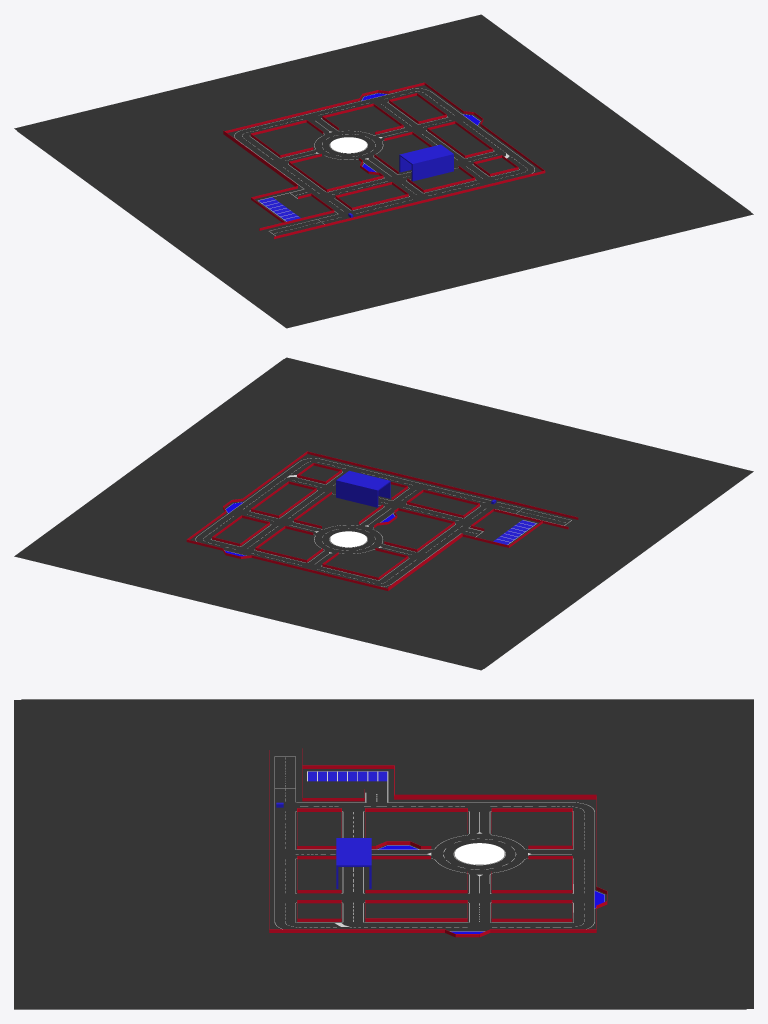
File: RoboTaksiPist2024.dae
3 renders of one model, top to bottom at view 1: azimuth 30°, elevation 25°; view 2: azimuth 150°, elevation 25°; view 3: azimuth 270°, elevation 25°, orthographic. The views are drawn at different scales.
Parts seen in each view (by area): view 1: Plane.025, Plane.056, Plane.008, Cube.066, Cube.055; view 2: Plane.025, Plane.056, Plane.008, Cube.066, Cube.055; view 3: Plane.025, Plane.056, Plane.008, Cube.003, Cube.066, Plane.026, Plane.016, Plane.015, Plane.010, Plane.031, Plane.039, Plane.002 (+8 smaller).
Boxes of the visible parts, <box> form: Plane.025: <box>14,14,750,325</box>; Plane.056: <box>17,131,753,328</box>; Plane.008: <box>300,125,395,165</box>; Cube.066: <box>399,144,453,181</box>; Cube.055: <box>274,170,544,239</box>; Plane.025: <box>14,359,750,670</box>; Plane.056: <box>285,357,753,668</box>; Plane.008: <box>302,519,396,559</box>; Cube.066: <box>336,470,390,507</box>; Cube.055: <box>307,451,578,519</box>; Plane.025: <box>21,699,753,1008</box>; Plane.056: <box>14,700,746,1009</box>; Plane.008: <box>409,824,549,883</box>; Cube.003: <box>394,794,596,799</box>; Cube.066: <box>336,838,371,888</box>; Plane.026: <box>431,912,513,931</box>; Plane.016: <box>319,884,387,912</box>; Plane.015: <box>445,884,513,912</box>; Plane.010: <box>274,839,319,868</box>; Plane.031: <box>550,839,594,868</box>; Plane.039: <box>274,792,319,821</box>; Plane.002: <box>274,884,319,912</box>.
Bounding box in the file's own units: 200 × 202 × 7.58.
